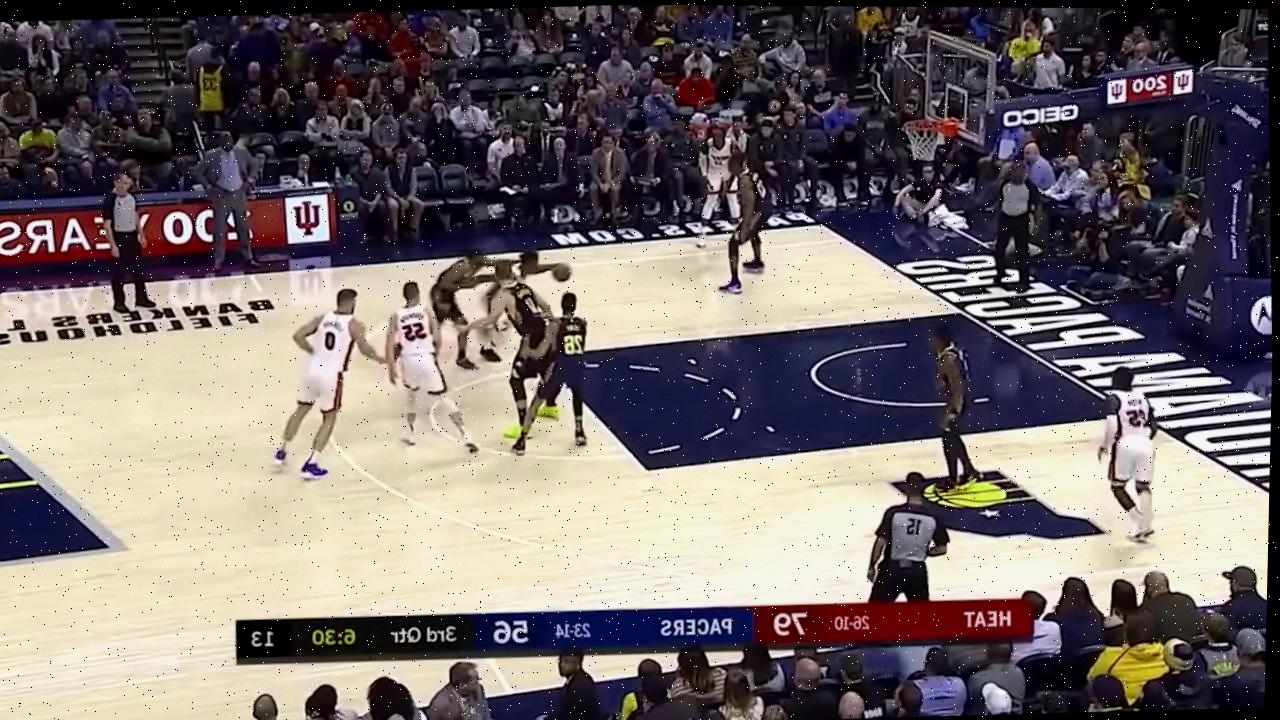foul: (423, 238, 555, 374)
